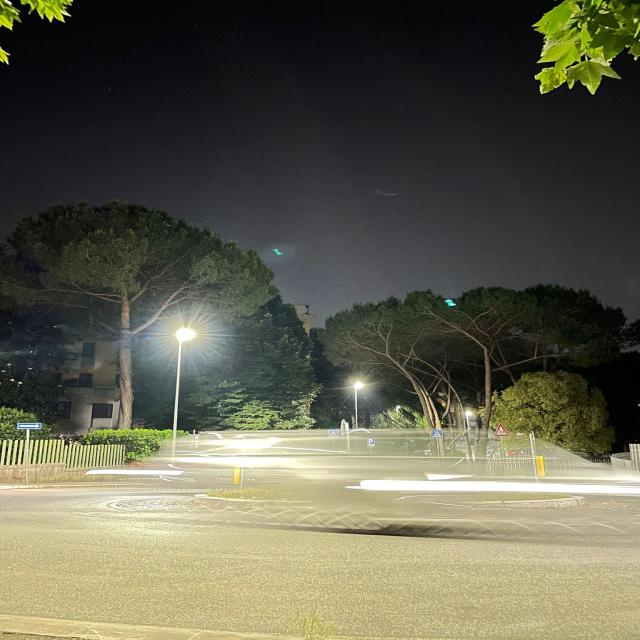lampione: (170, 318, 210, 353), (342, 369, 376, 400), (454, 400, 486, 428)
